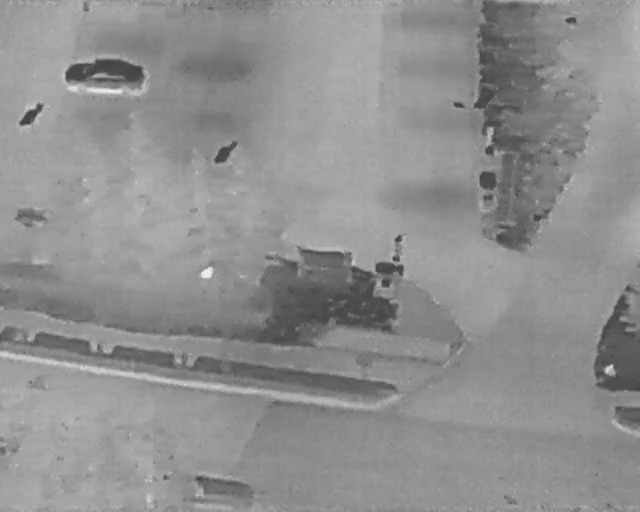Car: (62, 52, 150, 97)
